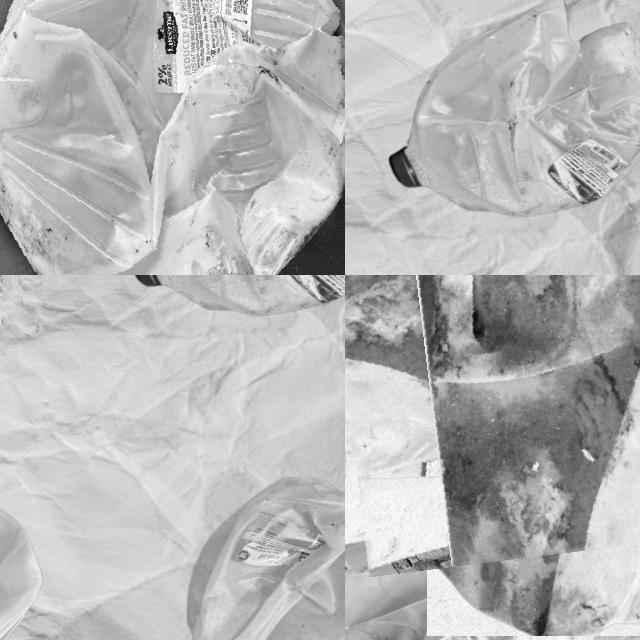milk-jug: (0, 0, 345, 275), (345, 275, 640, 563), (388, 0, 640, 217), (184, 482, 345, 640), (345, 522, 535, 640)
